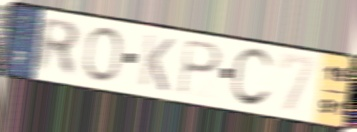7: (278, 51, 319, 116)
C: (227, 46, 276, 109)
K: (136, 31, 177, 95)
O: (83, 25, 124, 85)
P: (177, 37, 224, 97)
R: (34, 14, 83, 80)
